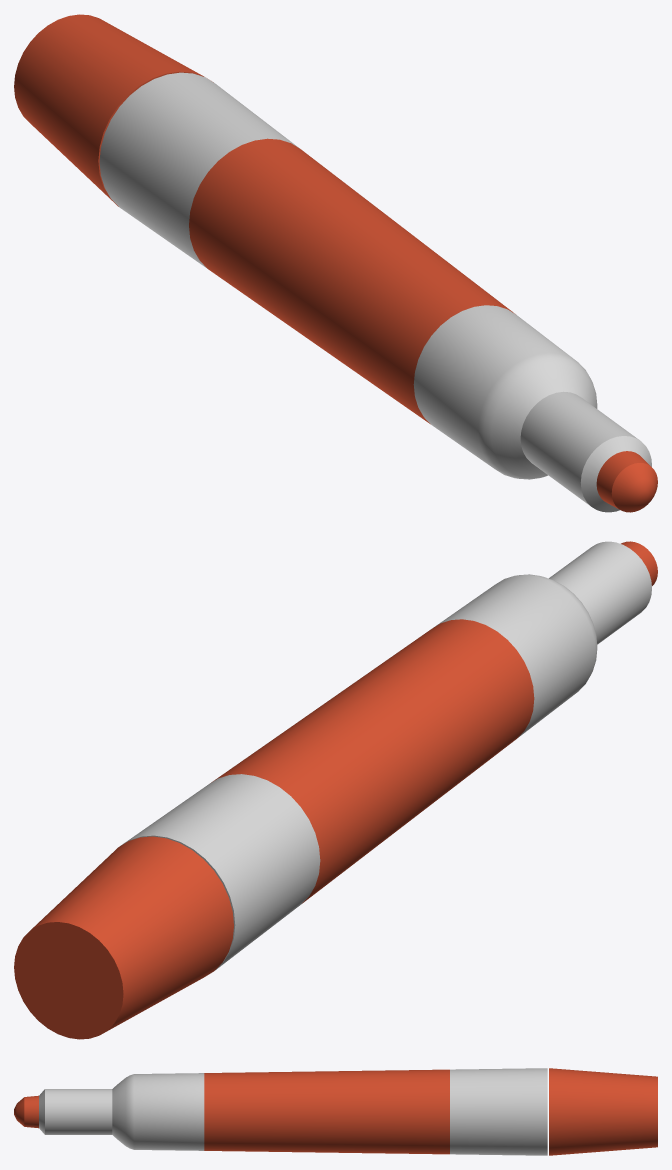
Rendered from marker.fbx.
3 views of the same model, one above another, from view 1: azimuth 30°, elevation 25°; view 2: azimuth 150°, elevation 25°; view 3: azimuth 270°, elevation 25° (orthographic). The views are drawn at different scales.
Parts seen in each view (by area): view 1: Cylinder; view 2: Cylinder; view 3: Cylinder.
Boxes of the visible parts, x1,y1,x2,y2 form: Cylinder: (14, 14, 657, 512); Cylinder: (14, 541, 657, 1039); Cylinder: (14, 1068, 657, 1155).
Size of the model in its own units: 14.83 by 14.83 by 109.
